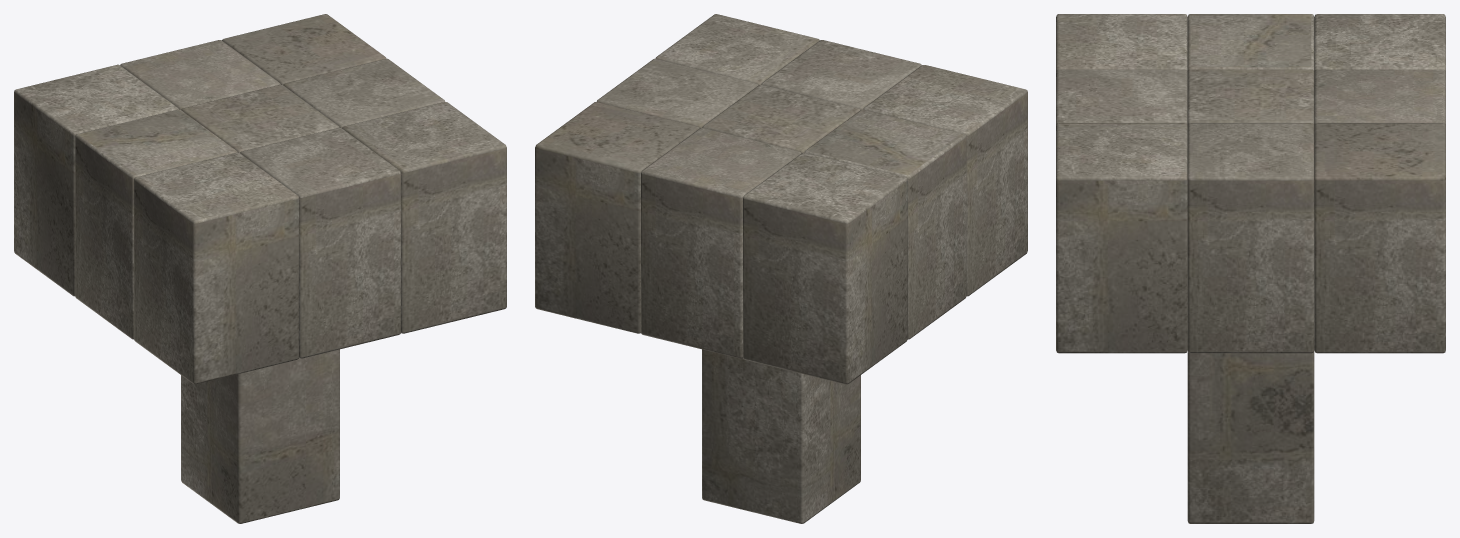
File: stairs_secret.glb
The picture shows the model from 3 angles, left to right: view 1: azimuth 30°, elevation 25°; view 2: azimuth 150°, elevation 25°; view 3: azimuth 270°, elevation 25°; orthographic projection. The views are drawn at different scales.
Parts seen in each view (by area): view 1: stair_secret; view 2: stair_secret; view 3: stair_secret.
Part boxes in pixels (box(x1,y1,x2,y2)): stair_secret: box(14, 14, 506, 523); stair_secret: box(535, 14, 1027, 523); stair_secret: box(1056, 14, 1445, 523).
Bounding box in the file's own units: 4 × 4.56 × 4.
Materials: 1 (1 with a texture image).
